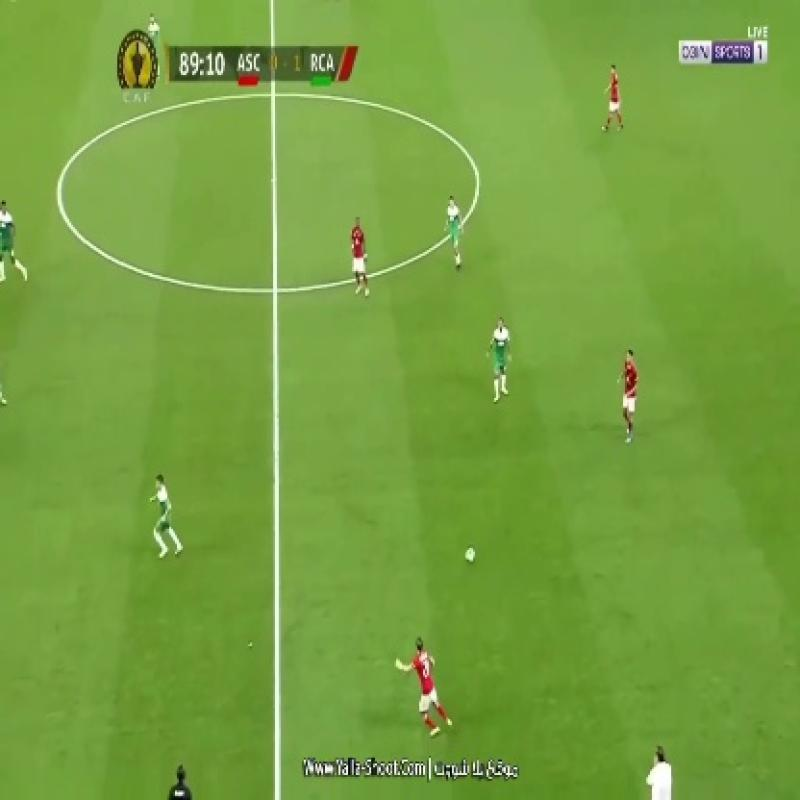14: (258, 77, 284, 108)
15: (260, 269, 284, 310)
c: (38, 176, 81, 210), (462, 164, 496, 198)
